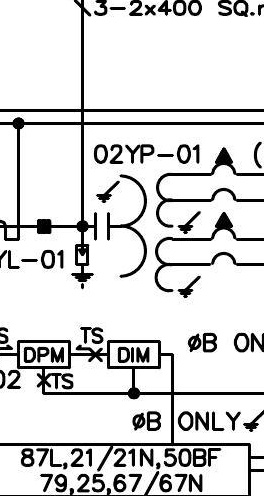115_cvt_1p: (93, 146, 239, 299)
115_la: (70, 244, 94, 290)
DIM: (107, 340, 161, 369)
DPM: (17, 340, 71, 369)
